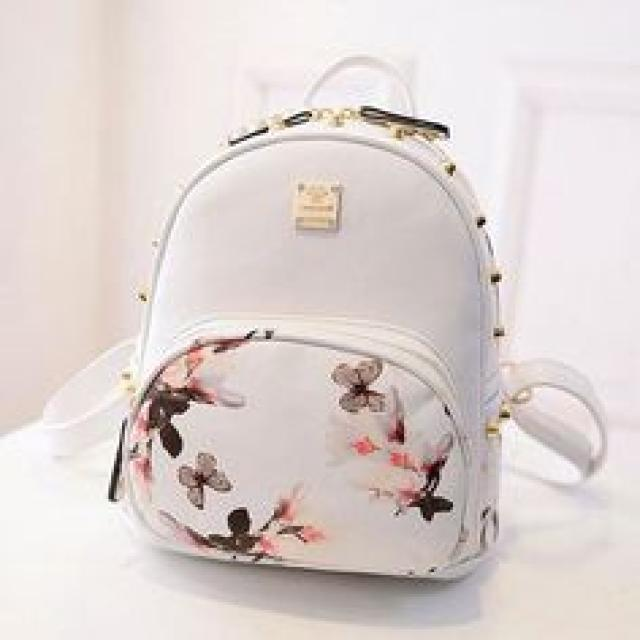backpack: (96, 49, 543, 594)
